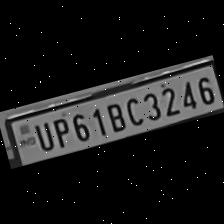1: (85, 104, 109, 138)
2: (156, 82, 180, 118)
3: (138, 88, 163, 122)
4: (172, 78, 197, 113)
6: (66, 108, 93, 146), (192, 73, 217, 108)
B: (102, 99, 128, 134)
C: (120, 92, 146, 128)
P: (47, 114, 74, 150)
U: (30, 118, 56, 154)
